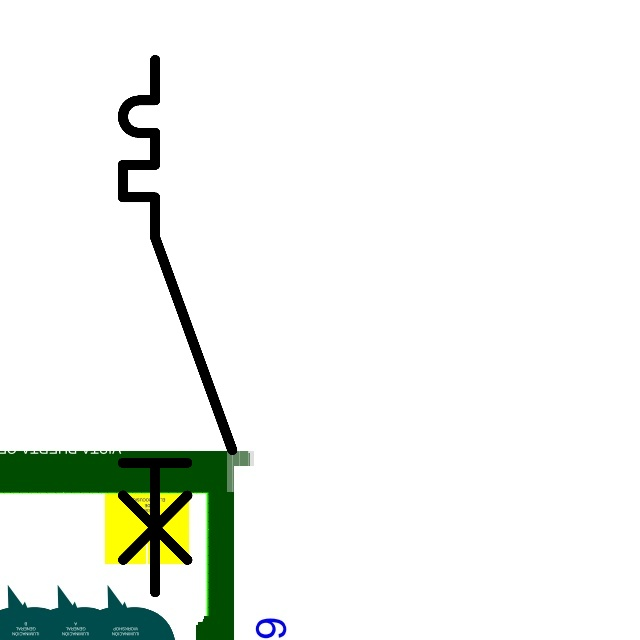interruptor_termomagnetico: (109, 46, 246, 606)
